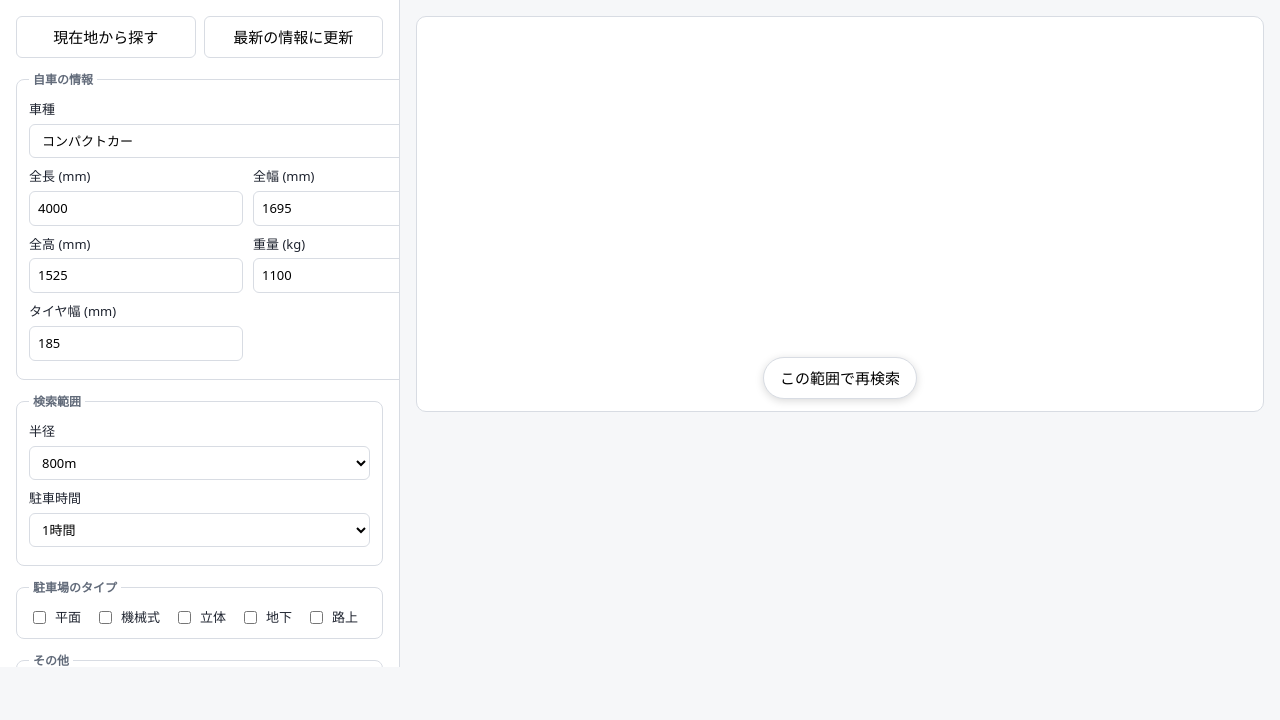
ParkingExplorer › explains when the device has no geolocation at all
This screenshot has width=1280, height=720.
Click the button "現在地から探す". click: click(106, 37)
box: [16,16,196,58]
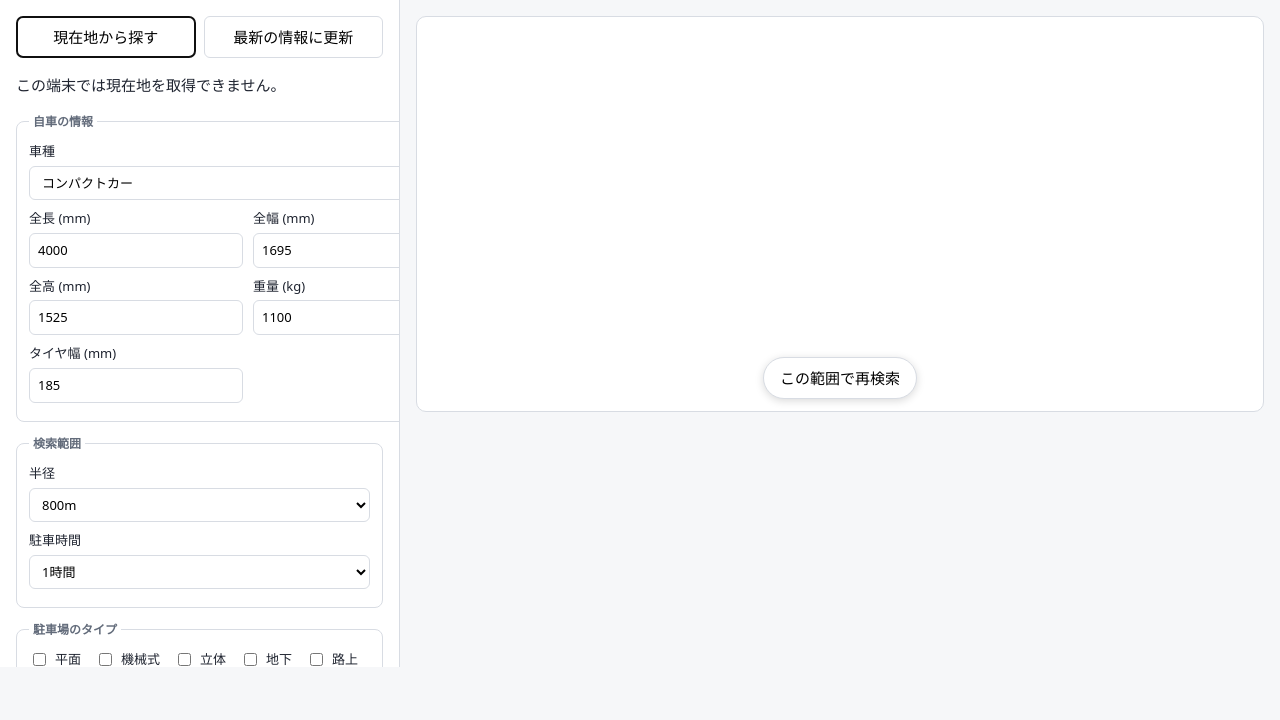
Now the message reads "この端末では現在地を取得できません。", box [16,75,286,95]
